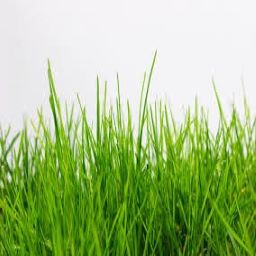grass: (2, 49, 251, 250)
